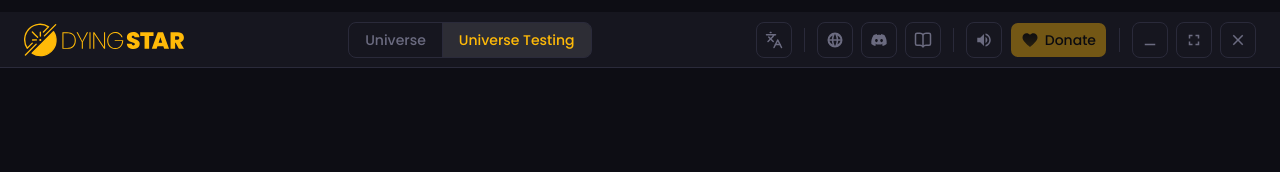
Test: Navbar › explains an unconfigured donate link in a tooltip
This screenshot has width=1280, height=172.
Hover over the element showing "Donate": (1058, 40) 1010,22 -> 1107,58
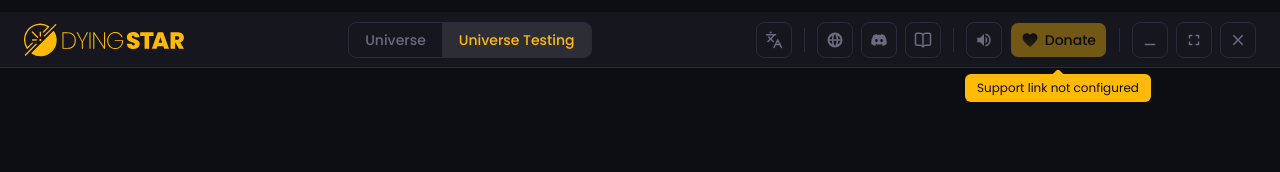
Now the tooltip reads "Support link not configured", box 977,79 -> 1139,96
